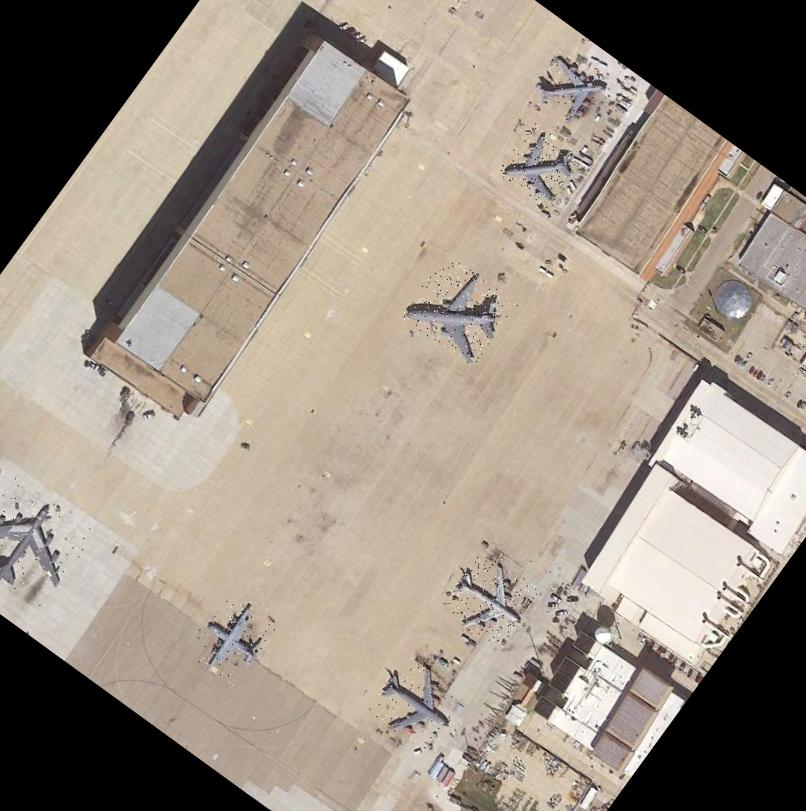A14: (366, 651, 469, 754), (441, 548, 542, 649), (498, 122, 586, 210), (528, 50, 608, 128)
A18: (400, 252, 518, 368)
A2: (186, 590, 278, 686)
A8: (0, 473, 96, 610)
